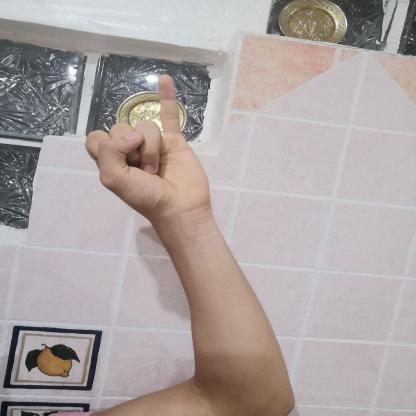MEEM: (64, 66, 222, 228)
